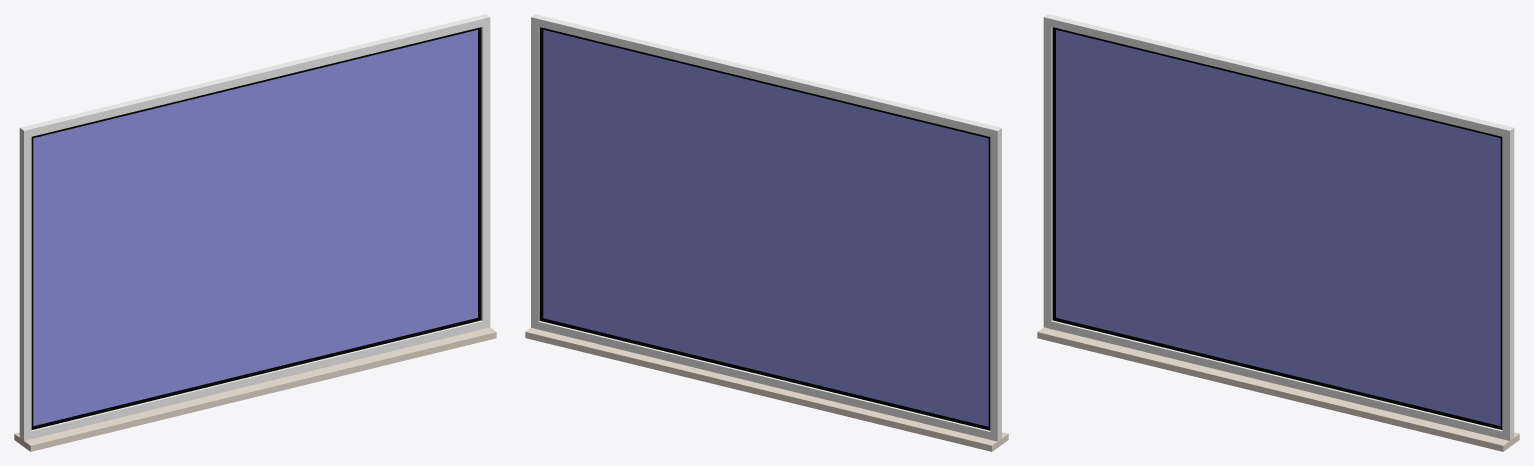
The model's file is Janela1.fbx.
3 views of the same model, side by side, from view 1: azimuth 30°, elevation 25°; view 2: azimuth 150°, elevation 25°; view 3: azimuth 330°, elevation 25° (orthographic).
Visible parts, largest first — view 1: Window.001; view 2: Window.001; view 3: Window.001.
Part boxes in pixels (x1,y1,x2,y2): Window.001: [14, 14, 496, 451]; Window.001: [525, 14, 1008, 451]; Window.001: [1037, 14, 1519, 451].
Bounding box in the file's own units: 310 × 201 × 19.
